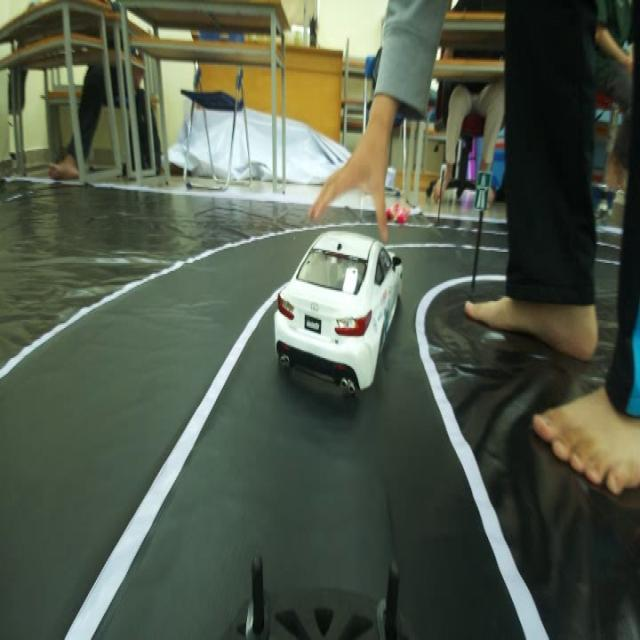car: (282, 203, 407, 421)
highway_entry: (471, 167, 493, 215)
